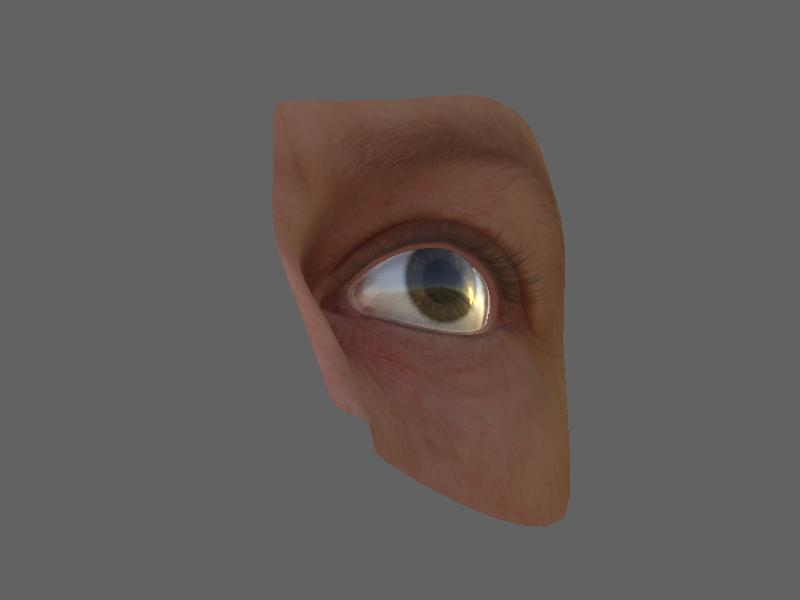iris: (406, 249, 480, 327)
